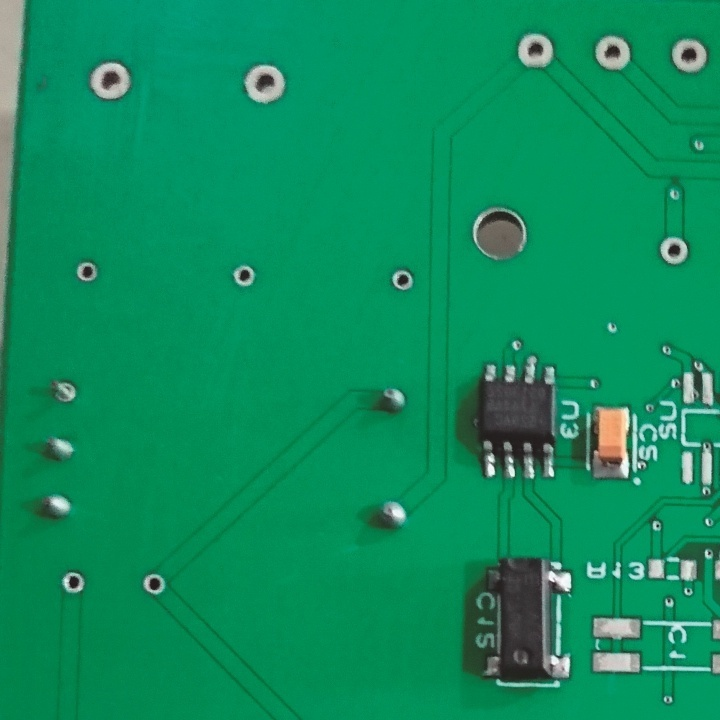F: (239, 58, 293, 109), (84, 55, 135, 106), (511, 29, 559, 73), (669, 35, 710, 78), (591, 32, 632, 75), (653, 235, 696, 268), (43, 377, 84, 407), (56, 569, 92, 600), (138, 569, 170, 601), (386, 264, 419, 295), (73, 254, 99, 287), (230, 261, 259, 289)
